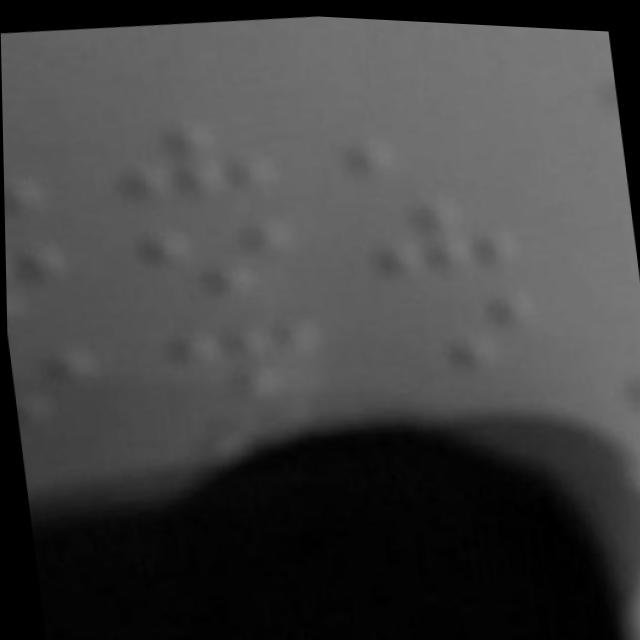braiile: (381, 279, 551, 386), (357, 182, 524, 285), (140, 206, 304, 309), (113, 105, 282, 204), (164, 306, 330, 401)
